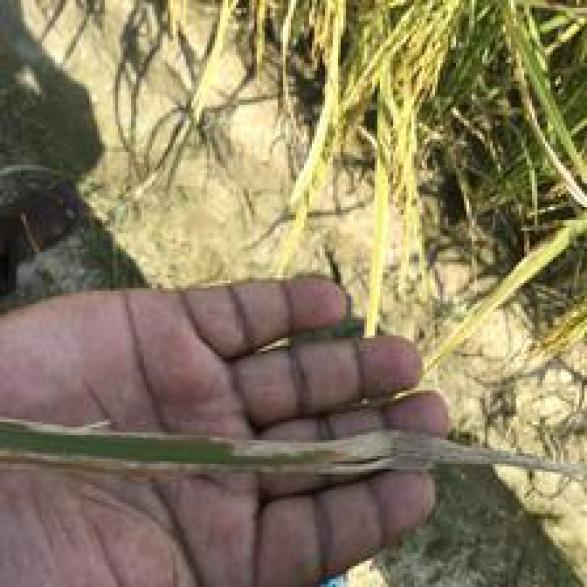Bacteria_Leaf_Blight: (10, 404, 556, 482)
